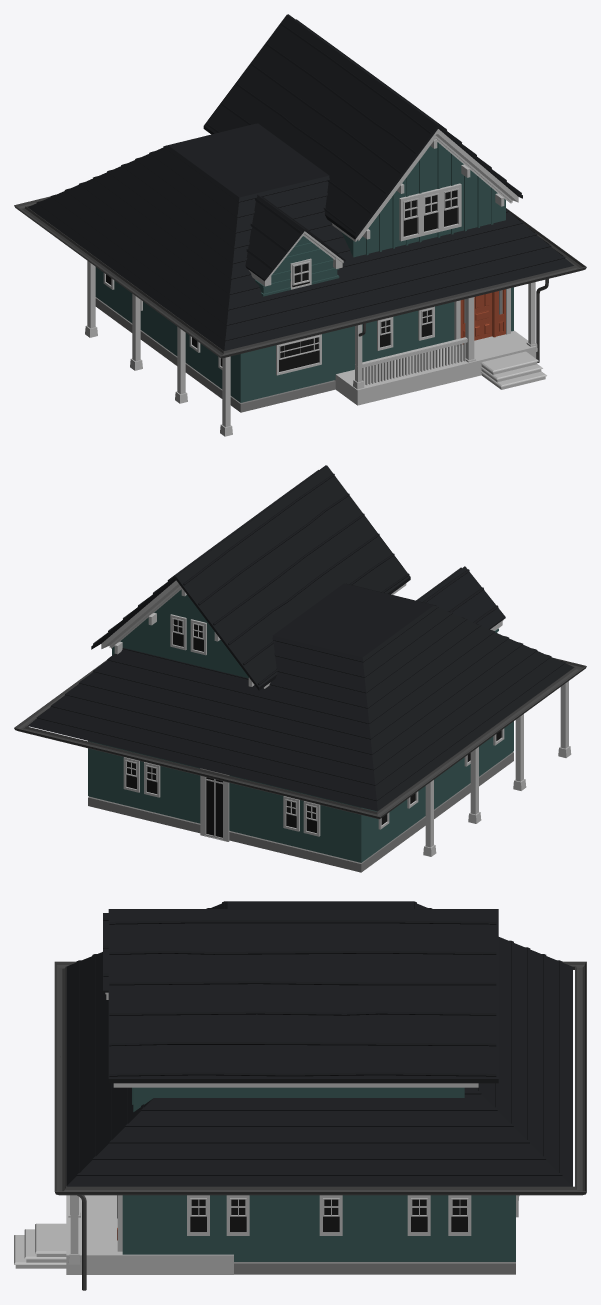
The model's file is SM_house_suburb_007.fbx.
3 renders of one model, top to bottom at view 1: azimuth 30°, elevation 25°; view 2: azimuth 150°, elevation 25°; view 3: azimuth 270°, elevation 25°, orthographic. The views are drawn at different scales.
Parts seen in each view (by area): view 1: Box5802; view 2: Box5802; view 3: Box5802.
Part boxes in pixels (x1=…): Box5802: x1=14, y1=14, x2=586, y2=436; Box5802: x1=14, y1=465, x2=586, y2=872; Box5802: x1=14, y1=901, x2=586, y2=1290.
Size of the model in its own units: 705 by 463 by 742.
